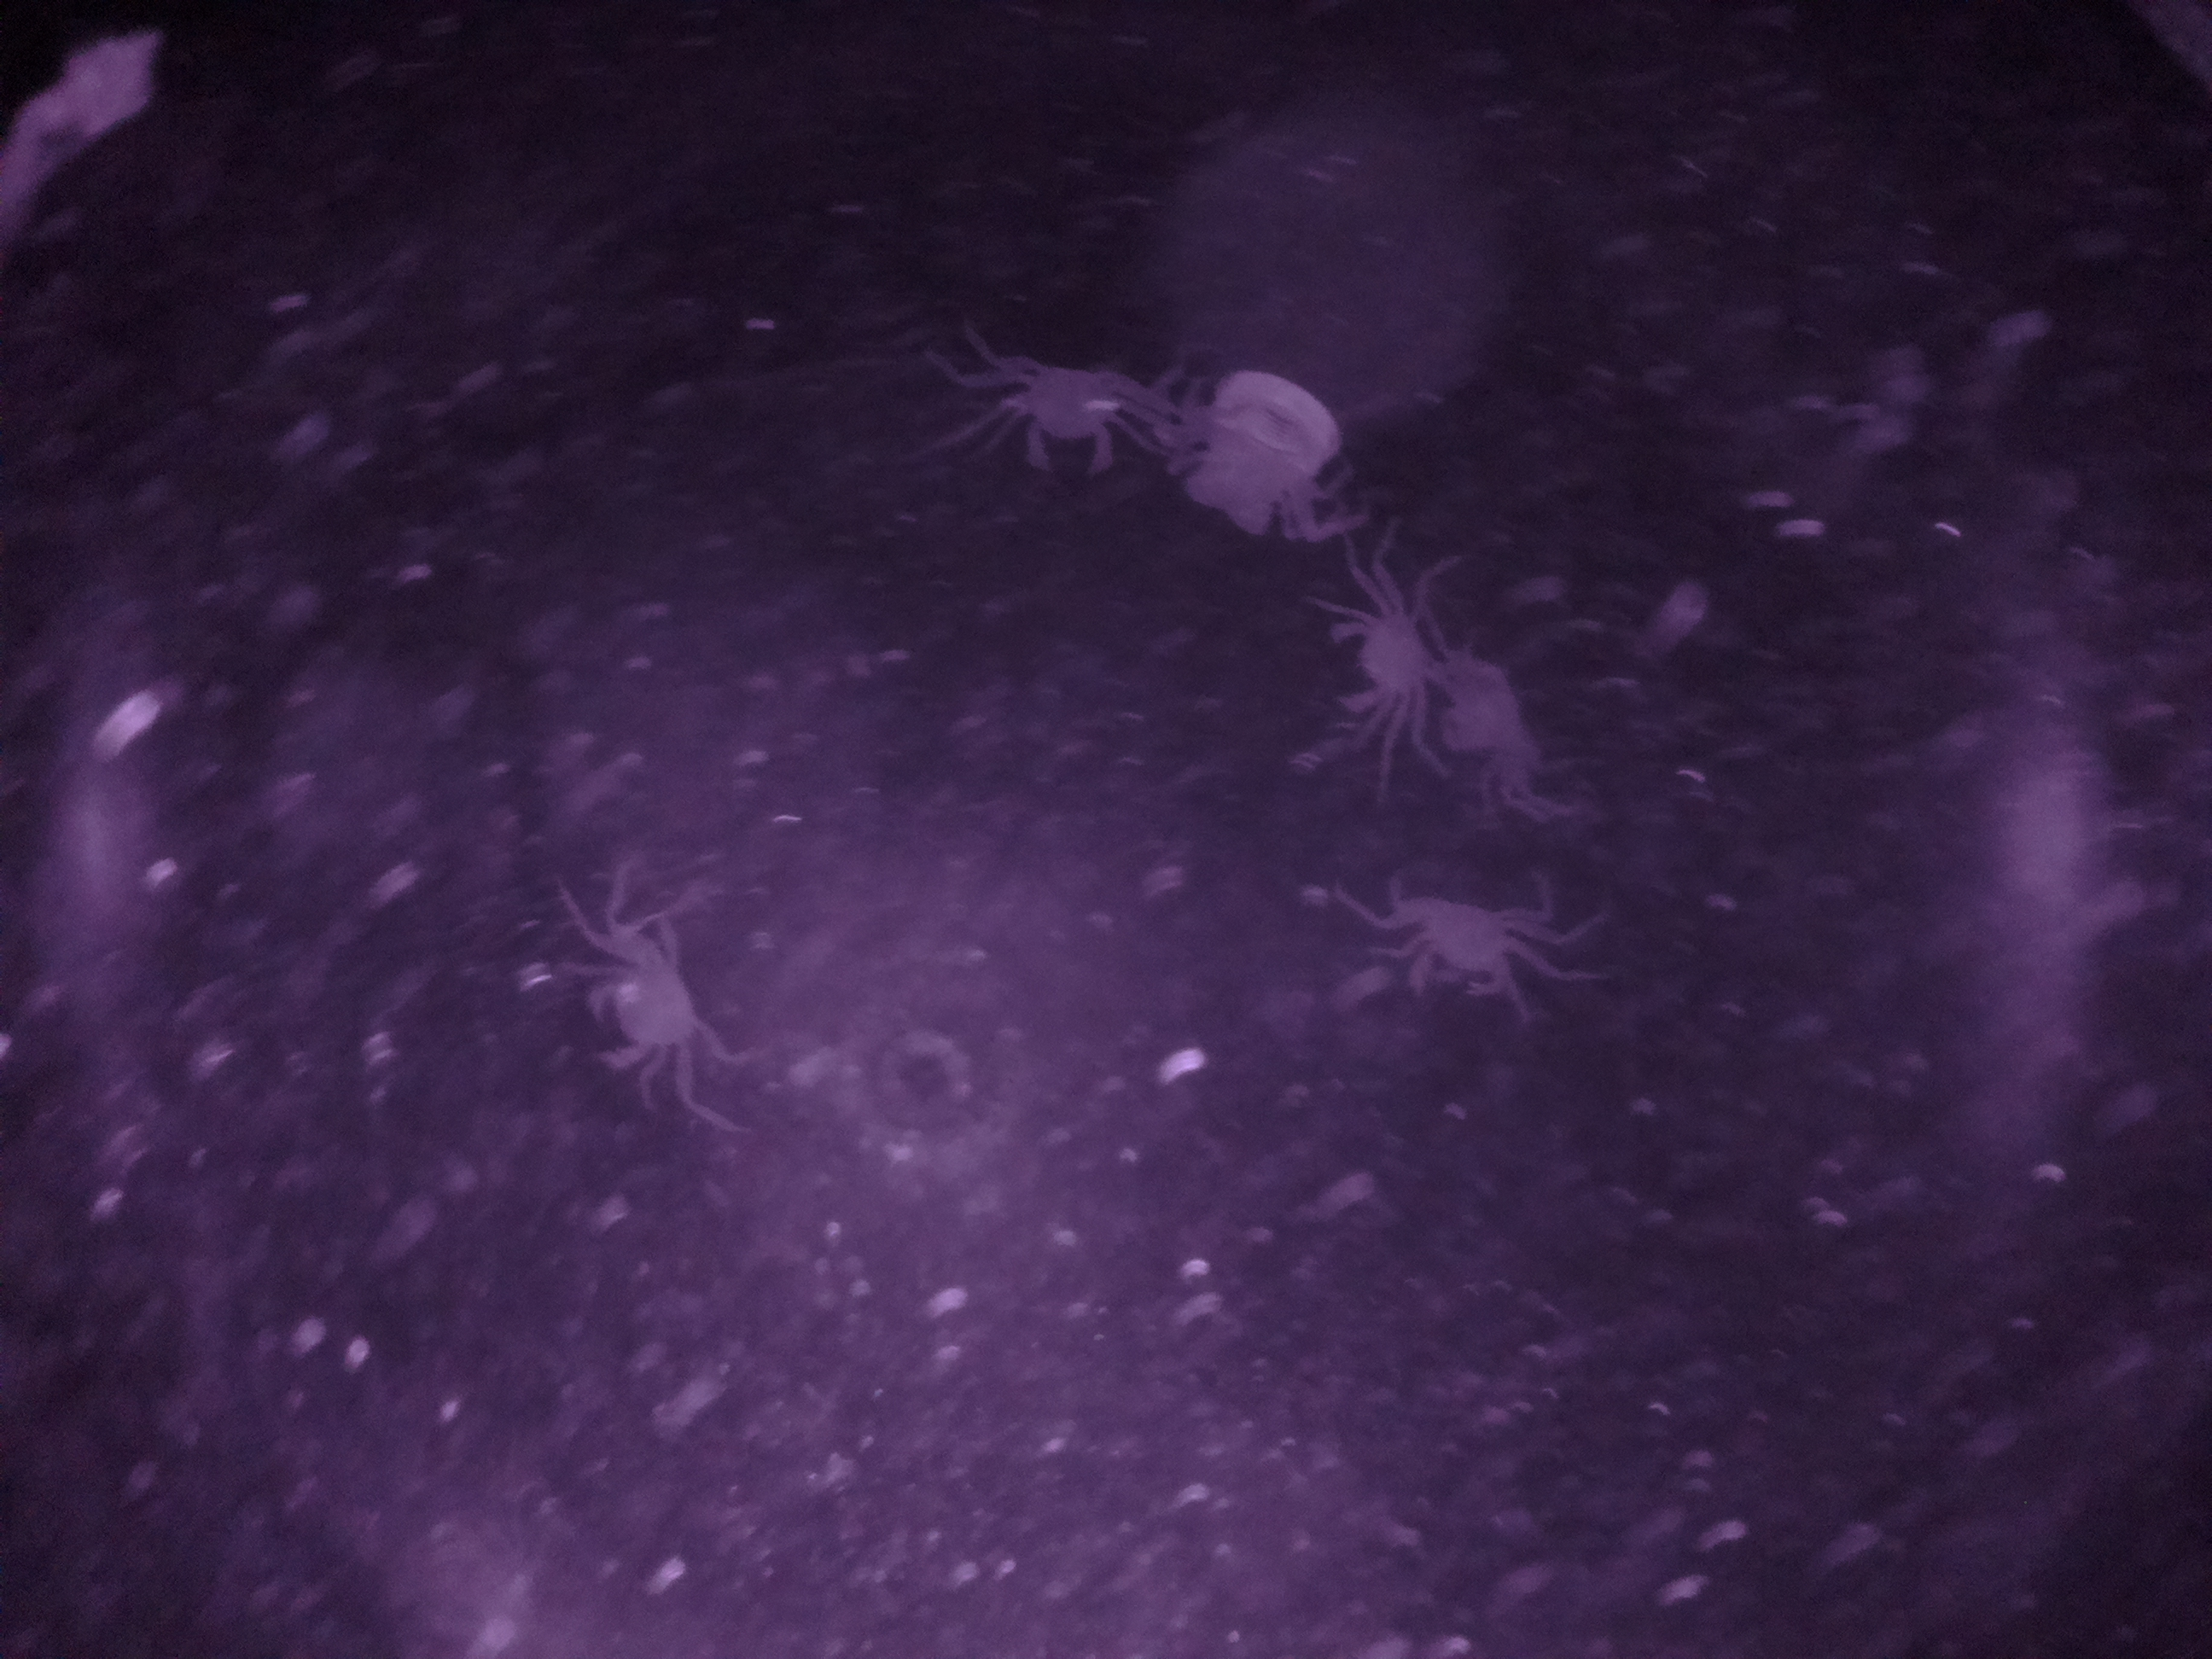Crab: (559, 871, 723, 1121), (949, 331, 1188, 481), (1324, 542, 1461, 777), (1357, 864, 1564, 1006)
